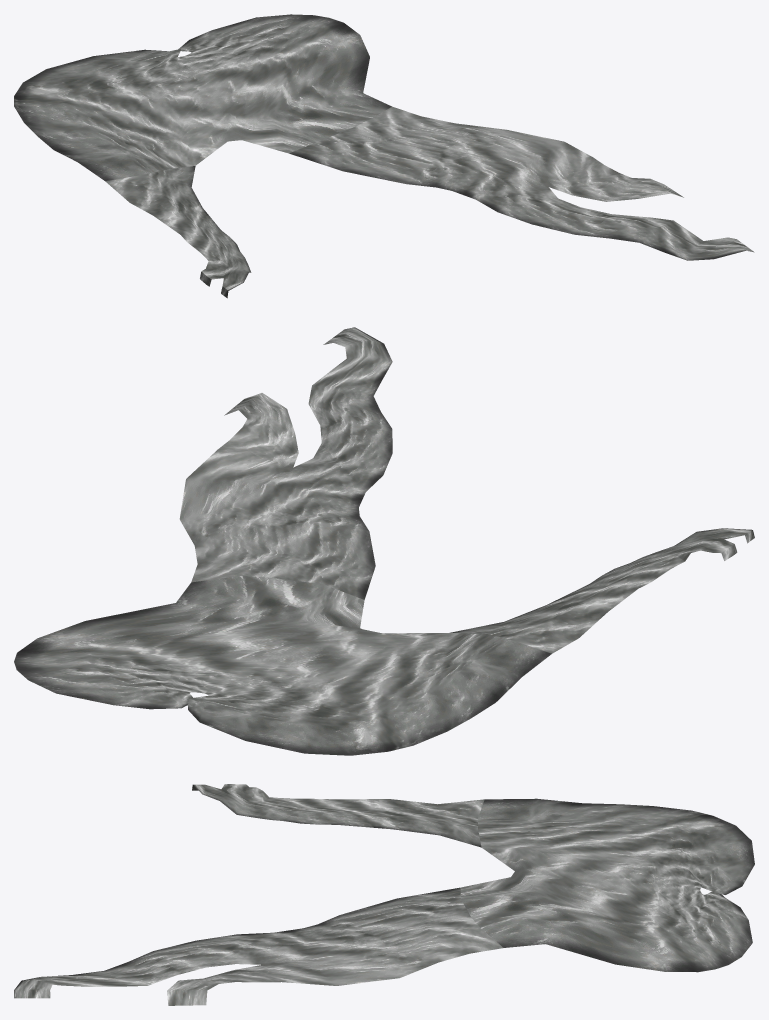
File: water_fx_01_02_airlock.dae
3 views of the same model, one above another, from view 1: azimuth 30°, elevation 25°; view 2: azimuth 150°, elevation 25°; view 3: azimuth 270°, elevation 25° (orthographic). The views are drawn at different scales.
Parts seen in each view (by area): view 1: 01_02_airlock; view 2: 01_02_airlock; view 3: 01_02_airlock.
Part boxes in pixels (<box>): 01_02_airlock: <box>14,14,754,298</box>; 01_02_airlock: <box>14,327,754,755</box>; 01_02_airlock: <box>14,784,754,1005</box>.
Bounding box in the file's own units: 2.28 × 0.059 × 3.29.
